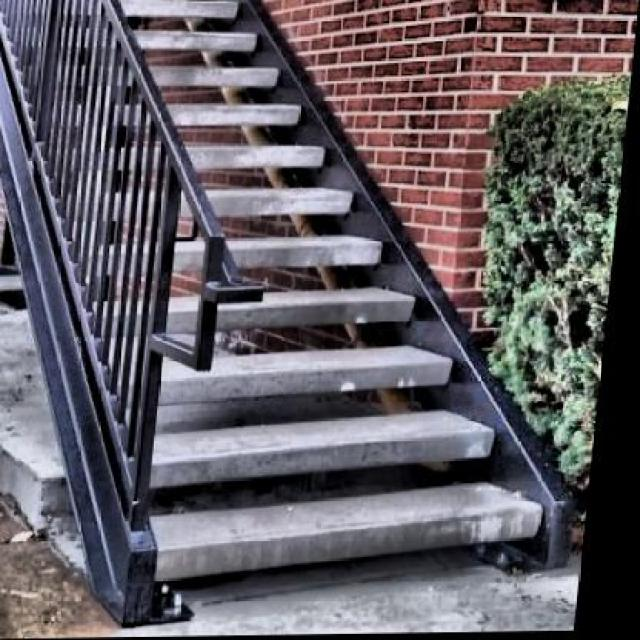stair: (0, 0, 625, 609)
